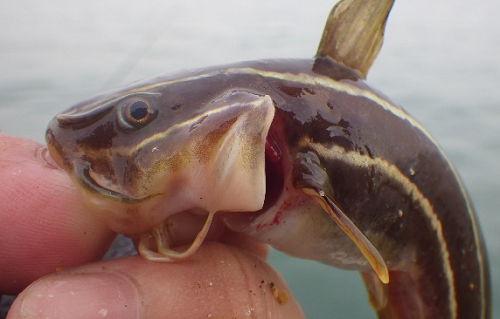gonzui: (41, 6, 497, 318)
